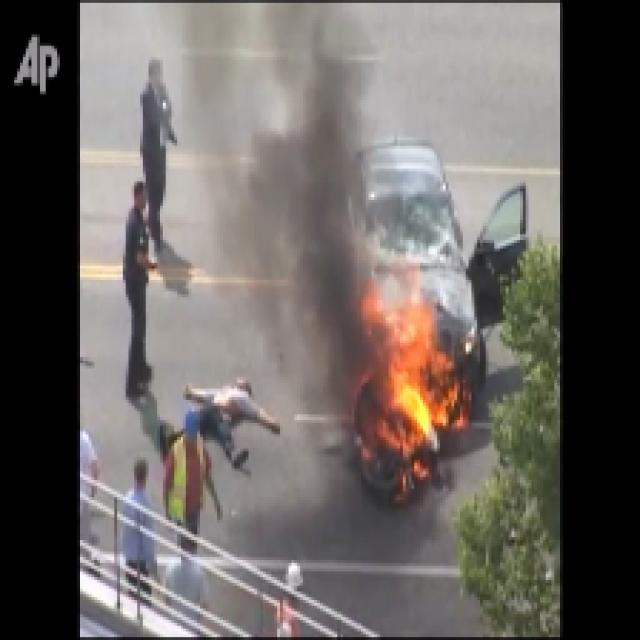fire: (364, 288, 449, 459)
smoke: (244, 94, 350, 356)
